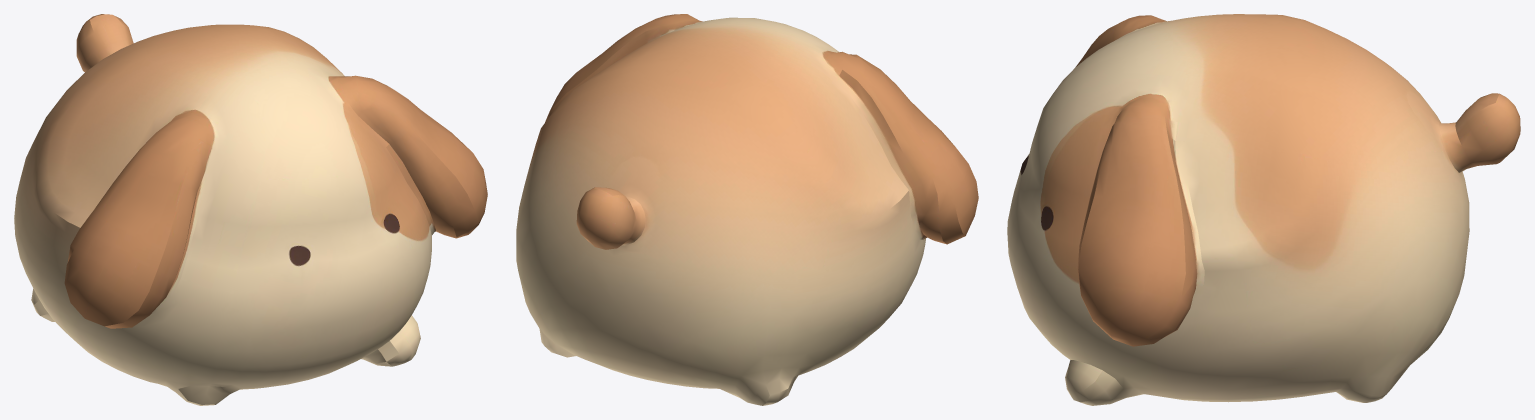
Rendered from Animal_Dog_01.glb.
3 views of the same model, side by side, from view 1: azimuth 30°, elevation 25°; view 2: azimuth 150°, elevation 25°; view 3: azimuth 270°, elevation 25° (orthographic). The views are drawn at different scales.
Parts seen in each view (by area): view 1: Animal_Dog_01.001; view 2: Animal_Dog_01.001; view 3: Animal_Dog_01.001.
Boxes of the visible parts, <box> form: Animal_Dog_01.001: <box>14,14,487,405</box>; Animal_Dog_01.001: <box>516,14,978,405</box>; Animal_Dog_01.001: <box>1007,14,1520,405</box>.
Size of the model in its own units: 0.9972 by 0.682 by 1.
Materials: 1 (1 with a texture image).
